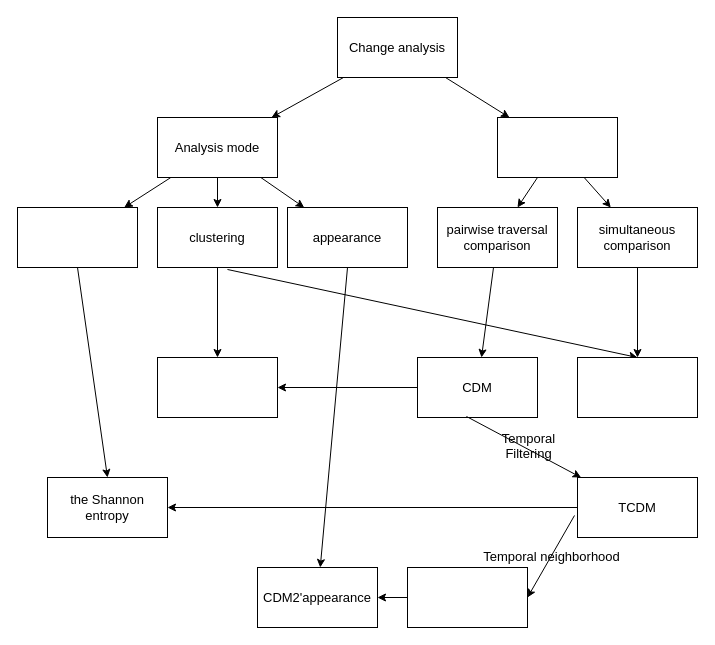
Some shapes in this 715 by 645 pixel diagram are drawn without their labels. Here are the shapes that lost their labels. From the top down, the centre of each, then its label:
(x=557, y=147): Matching mode
(x=77, y=237): index
(x=217, y=387): K-Matrix
(x=637, y=387): Based on Statistical Features and Temporal Clustering
(x=467, y=597): CDM2
